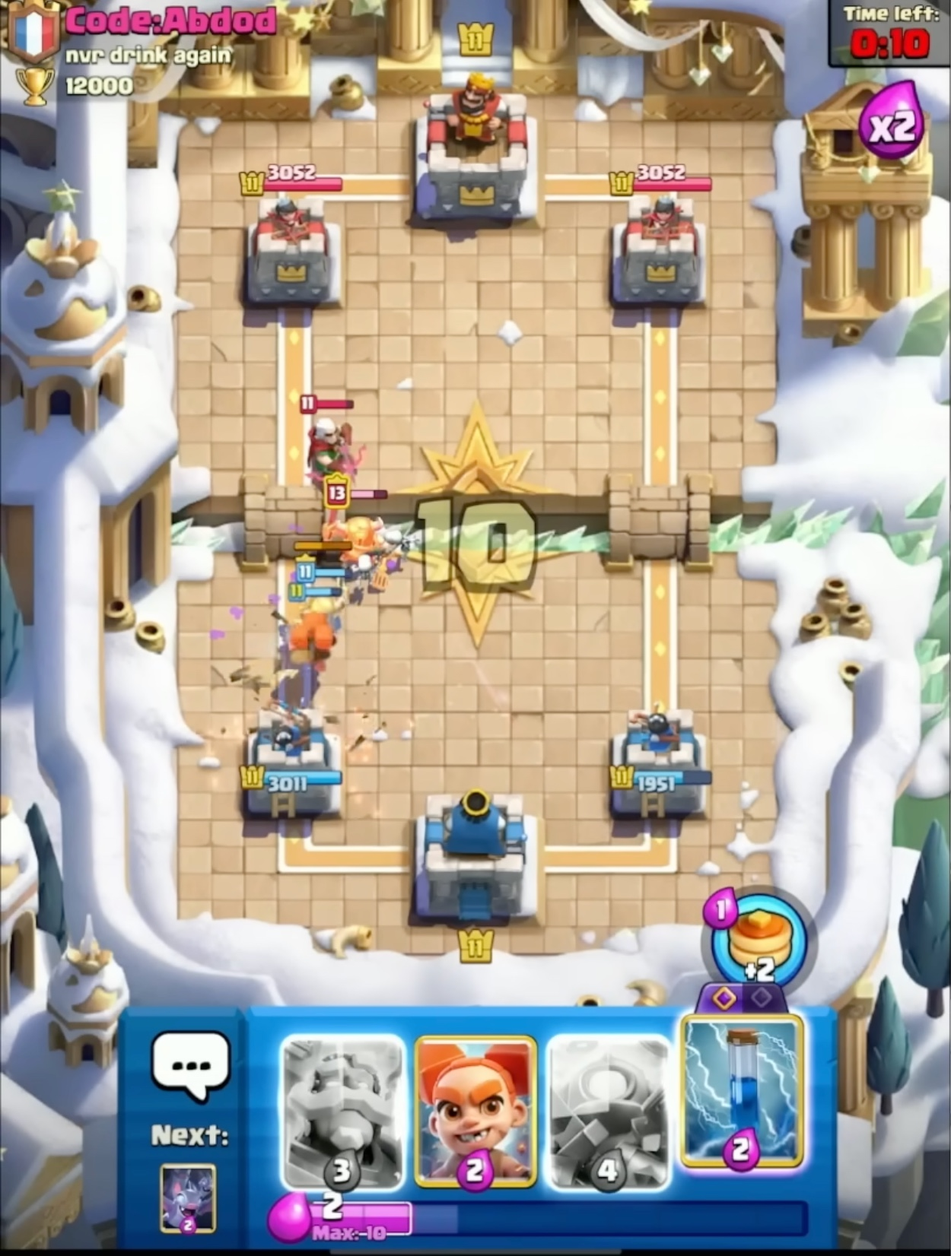hero-mini-pekka: (319, 472, 394, 571)
magic-archer: (292, 385, 371, 504)
